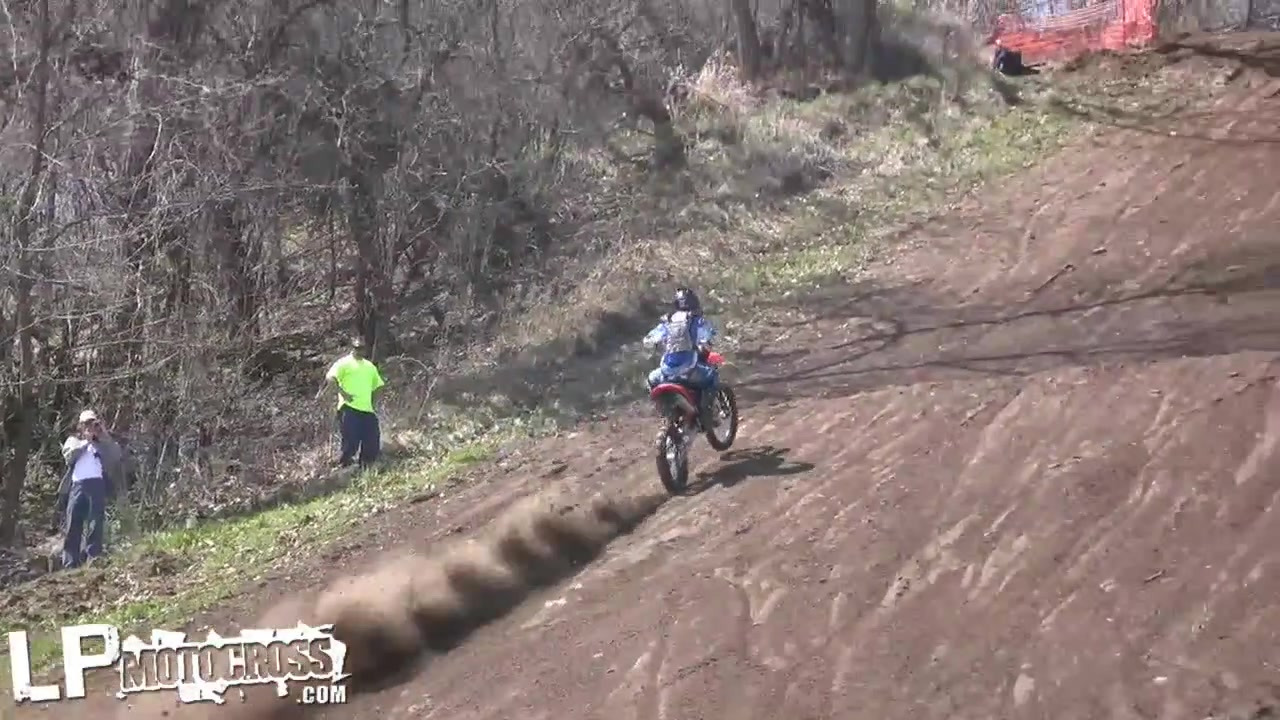motorbike: (650, 333, 737, 493)
